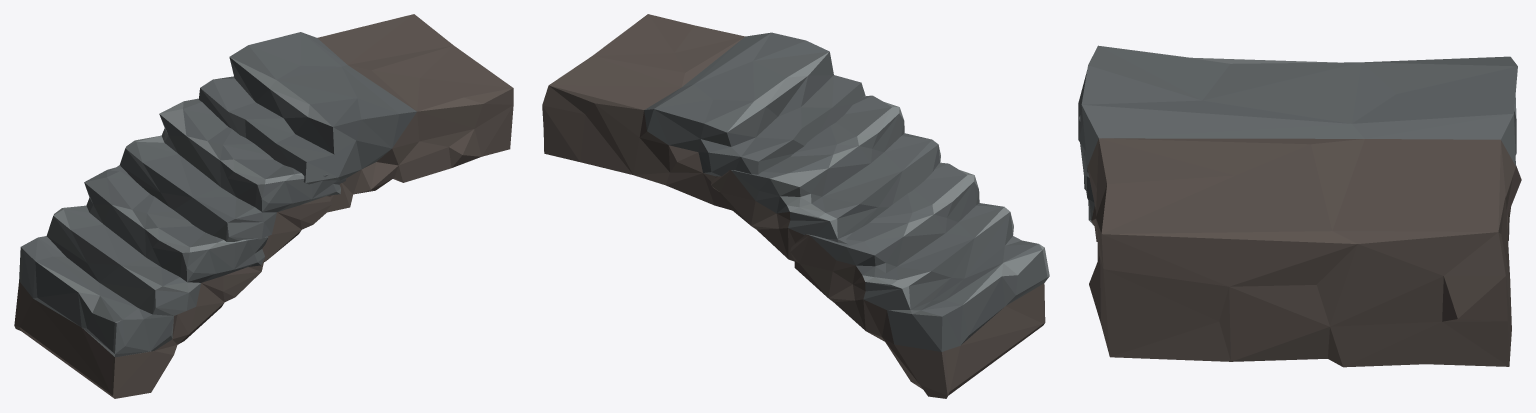
The model's file is MCastle_Steps_08.FBX.
3 views of the same model, side by side, from view 1: azimuth 30°, elevation 25°; view 2: azimuth 150°, elevation 25°; view 3: azimuth 270°, elevation 25° (orthographic). The views are drawn at different scales.
Visible parts, largest first — view 1: MCastle_Steps_08_LOD0; view 2: MCastle_Steps_08_LOD0; view 3: MCastle_Steps_08_LOD0.
Part boxes in pixels (x1,y1,x2,y2): MCastle_Steps_08_LOD0: (14,14,513,398); MCastle_Steps_08_LOD0: (542,14,1049,398); MCastle_Steps_08_LOD0: (1078,45,1521,367).
Size of what is drawn, in the model's own units: 4.35 by 2.33 by 2.06.
